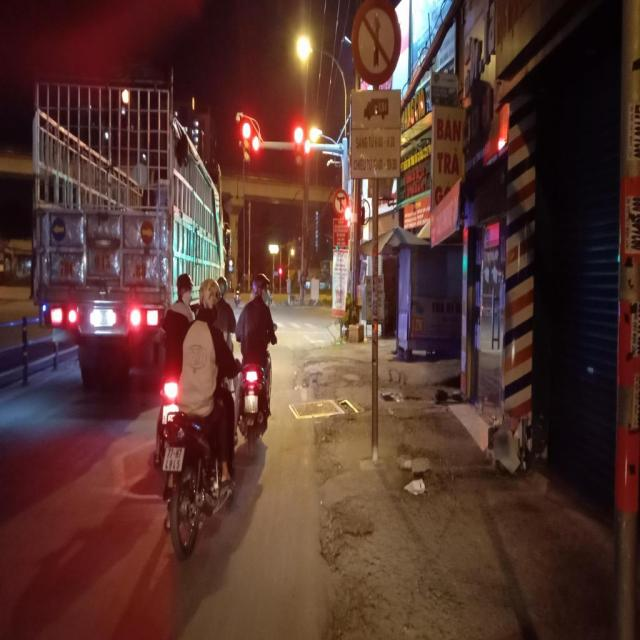cam_re_trai_va_phai: (333, 188, 349, 217)
khac: (351, 89, 402, 177), (351, 0, 402, 85)
